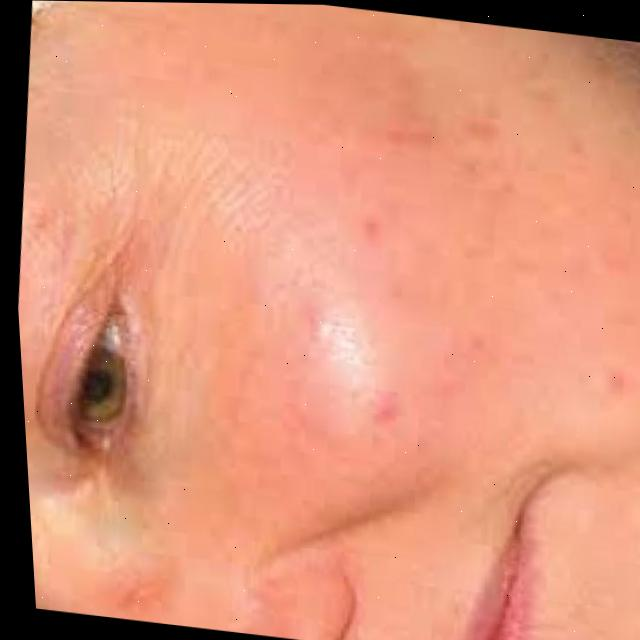Rosacea: (280, 137, 475, 427)
